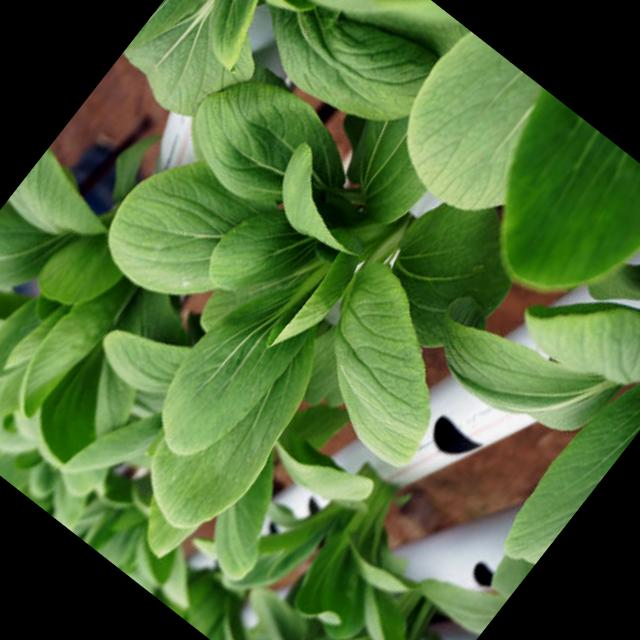pakcoy_sehat: (0, 14, 543, 593)
